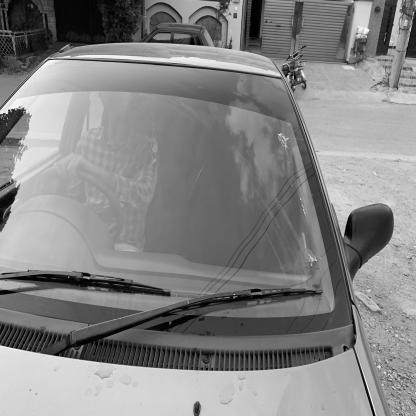no_seatbelt: (73, 92, 134, 206)
